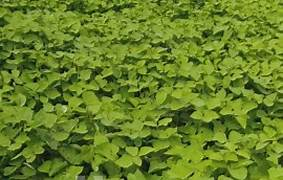crops: (0, 0, 278, 176)
